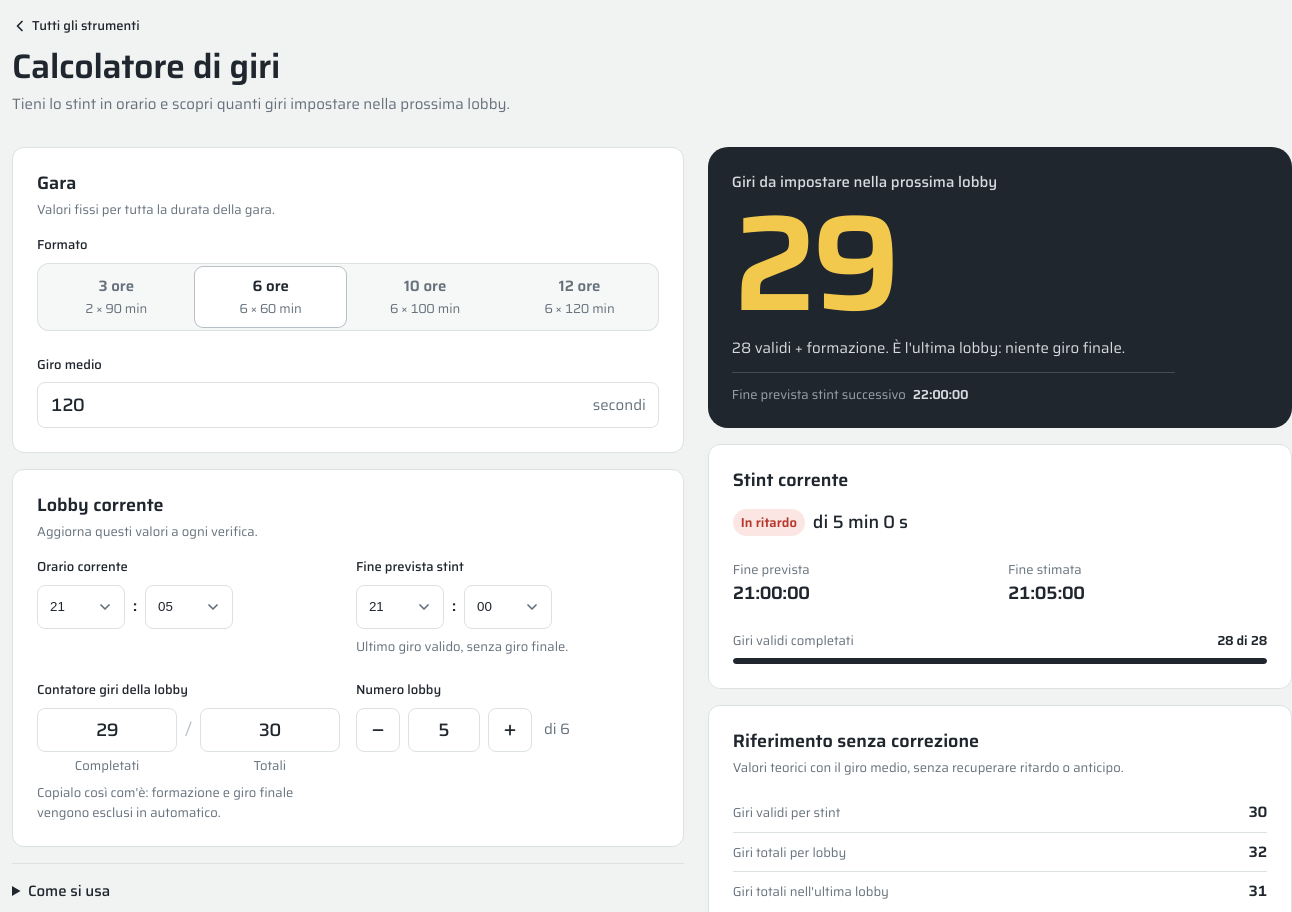
Scenario: <LapCalculator /> › ricalcola lo stato quando cambia l’orario corrente
# In italiano l'orario è a 24 ore: un menu per le ore e uno per i minuti.
Select "21" in the dropdown named "Orario corrente: Ore" at (81, 607), box [37, 585, 125, 629]
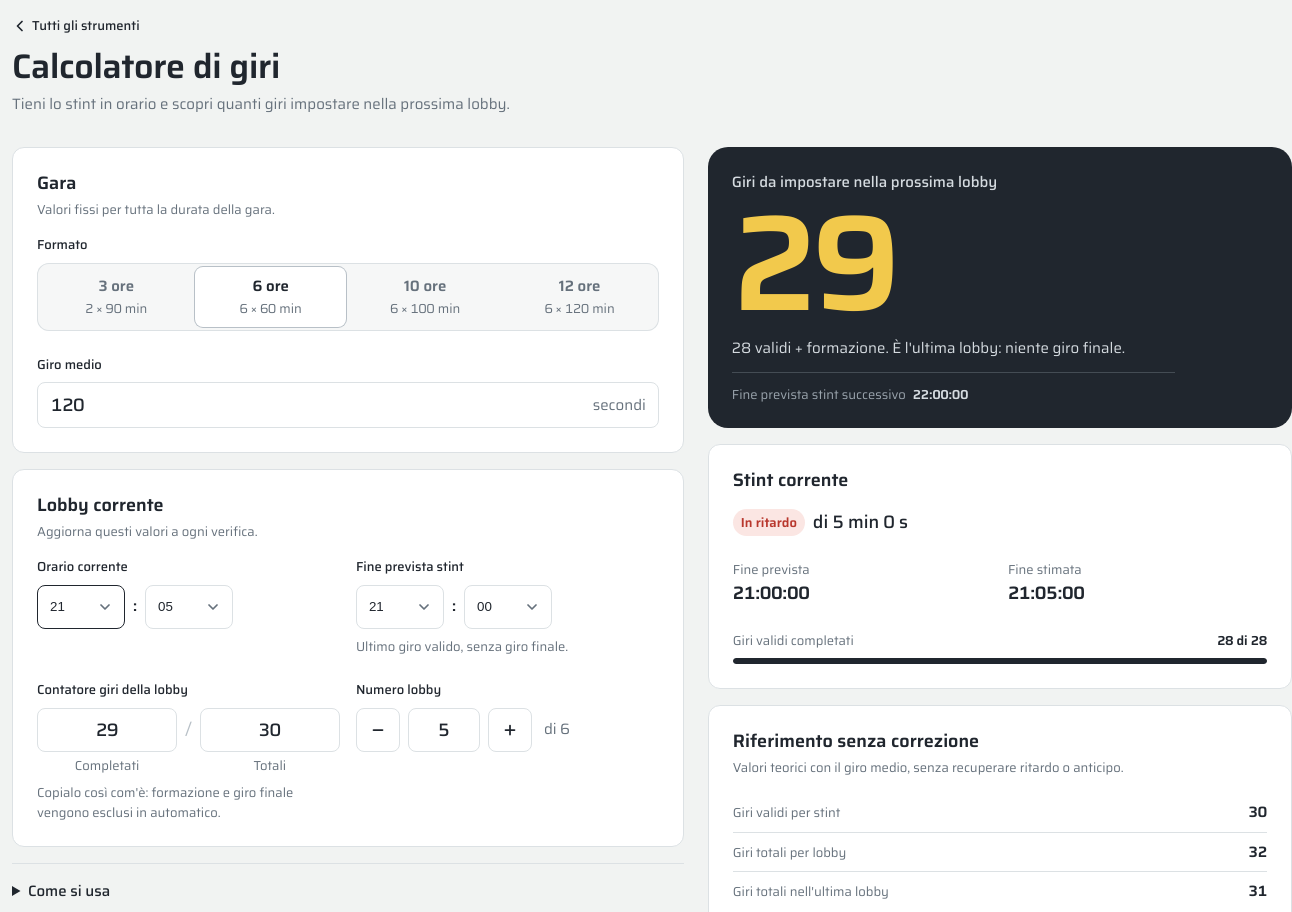
Select "00" in the dropdown named "Orario corrente: Minuti" at (189, 607), box [145, 585, 233, 629]
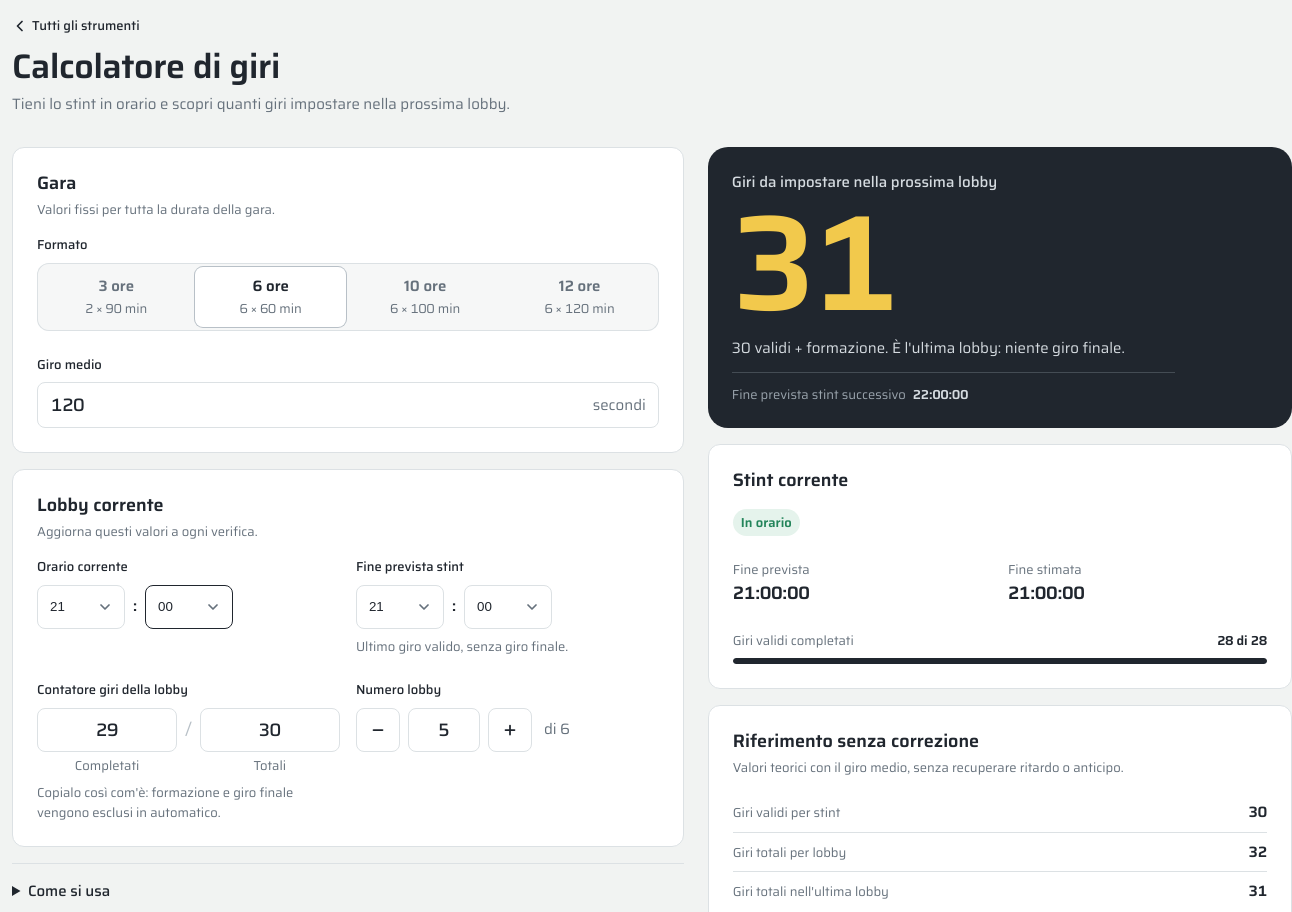
Result: the text "In orario" is shown at [733, 509, 800, 536]
